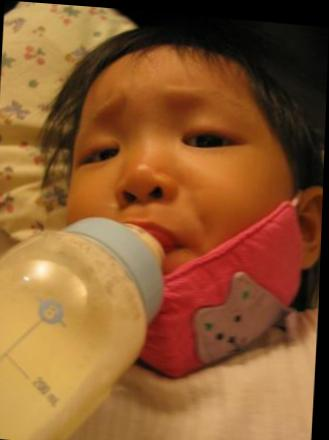WRONG: (62, 65, 291, 357)
